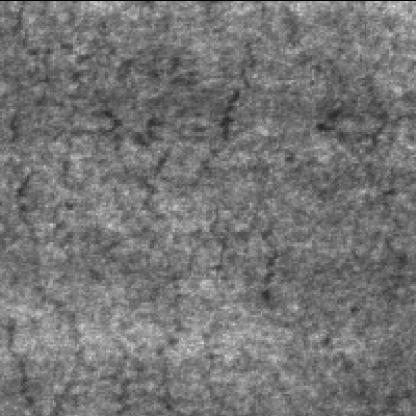crazing: (77, 80, 179, 410), (0, 158, 85, 412), (180, 64, 270, 300)
